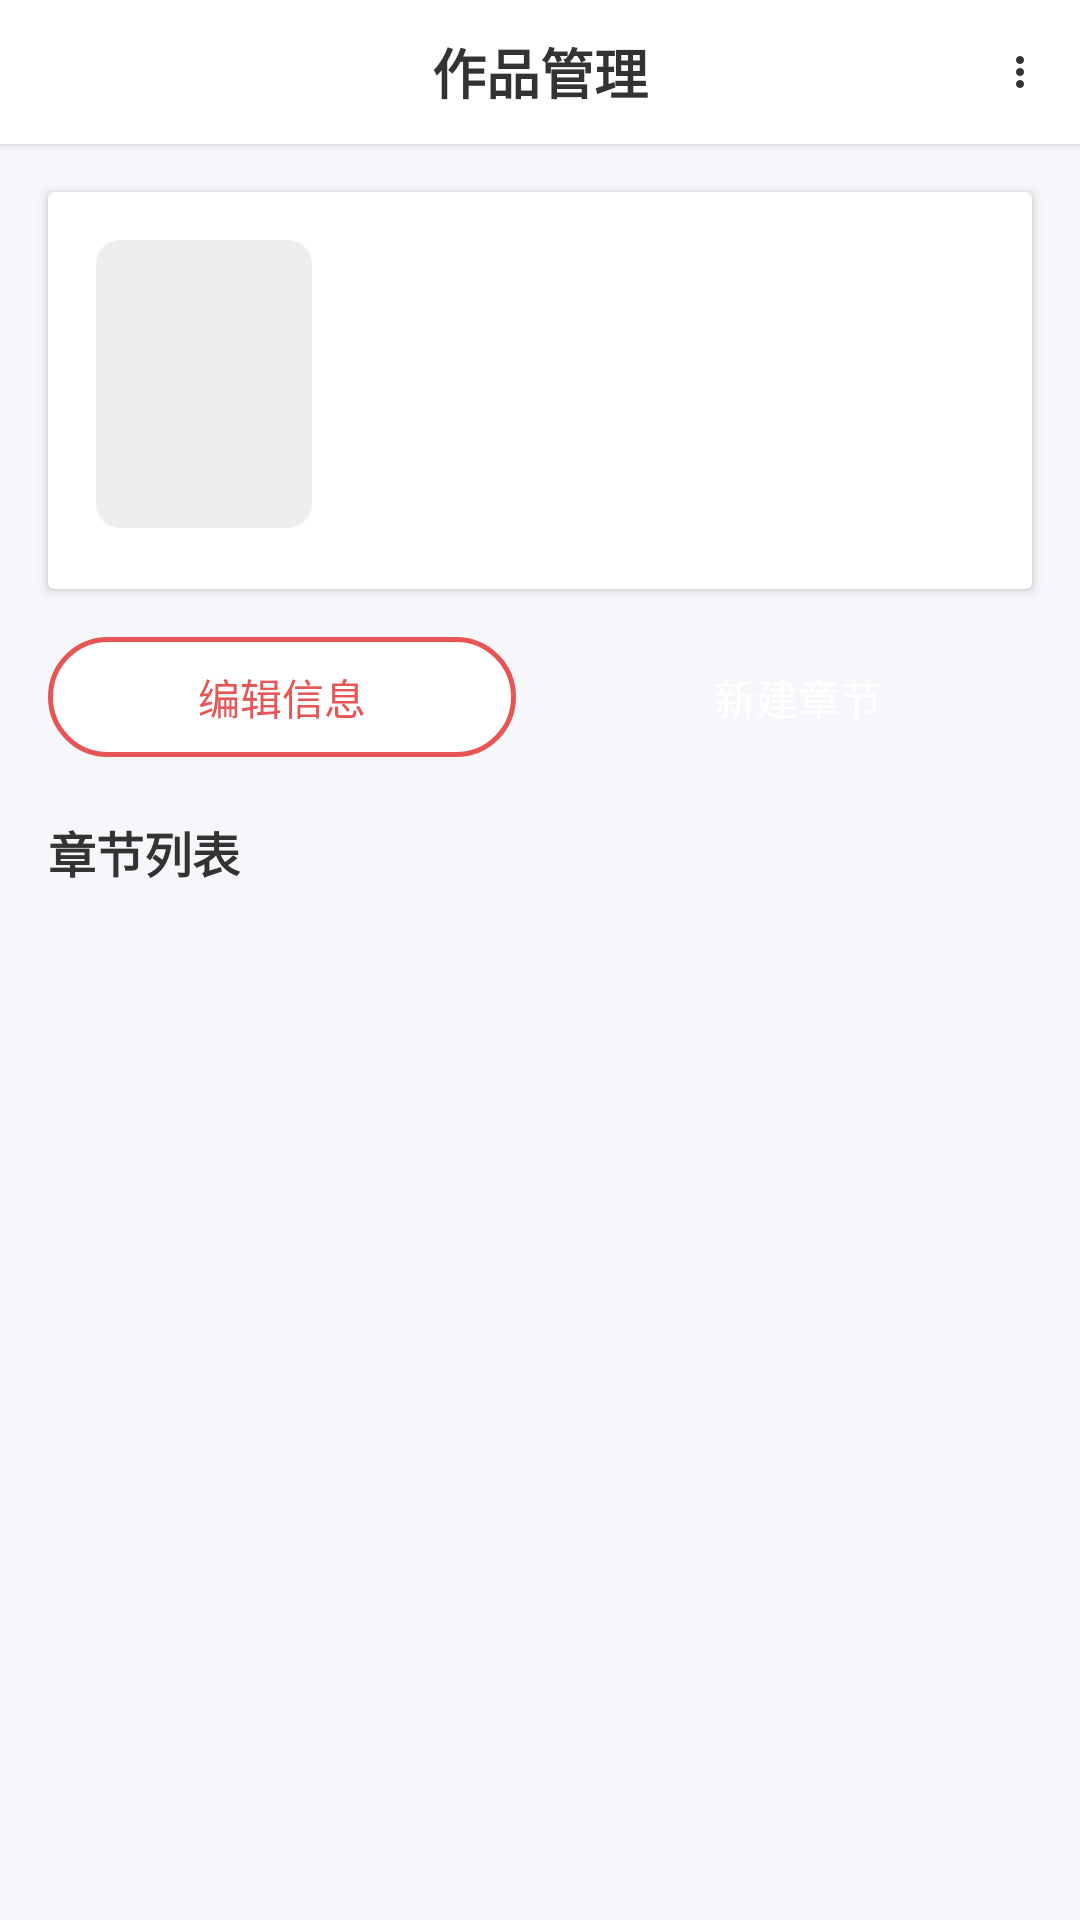

Where icons sit on this 1080px×1920px app screen, as (x1=x1, y1=y1, x2=x2, y2=y2):
更多: (x1=1016, y1=56, x2=1024, y2=88)
